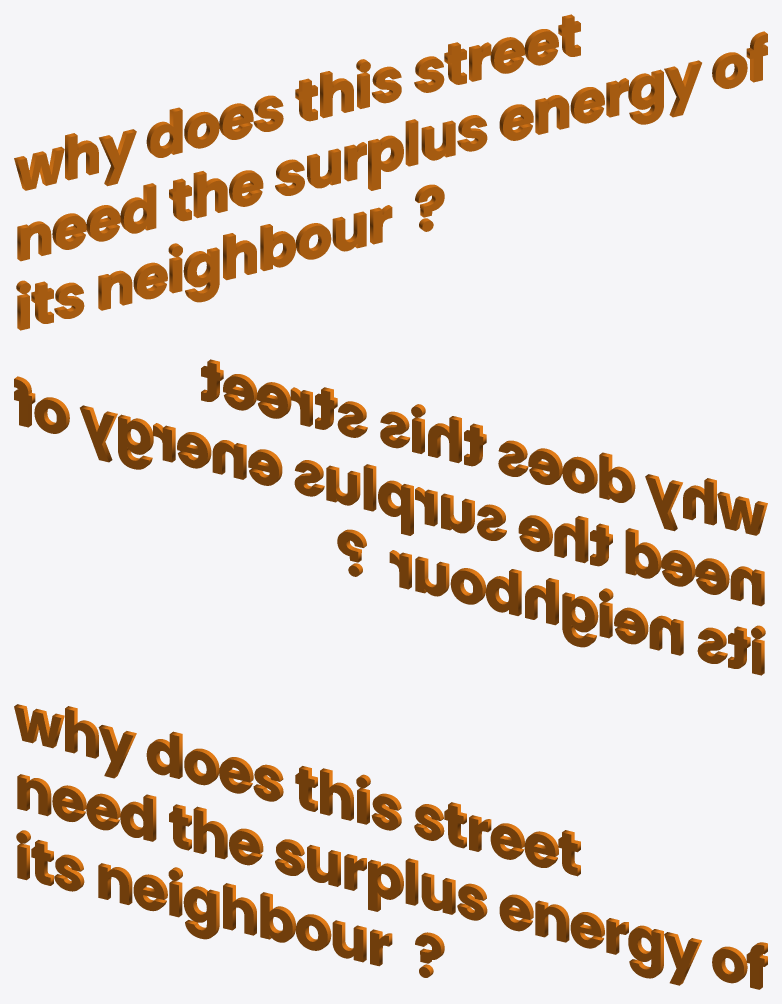
Rendered from yazison2.gltf.
3 views of the same model, one above another, from view 1: azimuth 30°, elevation 25°; view 2: azimuth 150°, elevation 25°; view 3: azimuth 330°, elevation 25° (orthographic).
Parts seen in each view (by area): view 1: Text.067; view 2: Text.067; view 3: Text.067.
Boxes of the visible parts, bbox=[...] form: Text.067: bbox=[14, 14, 767, 330]; Text.067: bbox=[14, 359, 767, 675]; Text.067: bbox=[14, 704, 767, 989].
Bounding box in the file's own units: 0.3841 × 0.0981 × 0.00304.
